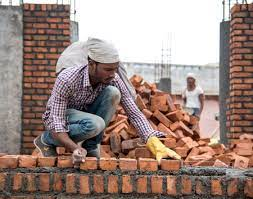arm: (122, 90, 187, 168), (49, 103, 85, 160)
face: (88, 54, 120, 83)
glove: (145, 130, 175, 165), (67, 140, 85, 163)
helmet: (65, 102, 104, 150), (80, 32, 120, 73)
human: (32, 19, 134, 172)
nogoggle: (91, 59, 118, 70)
novest: (46, 69, 116, 139)
vest: (225, 175, 244, 196), (243, 176, 253, 197)
